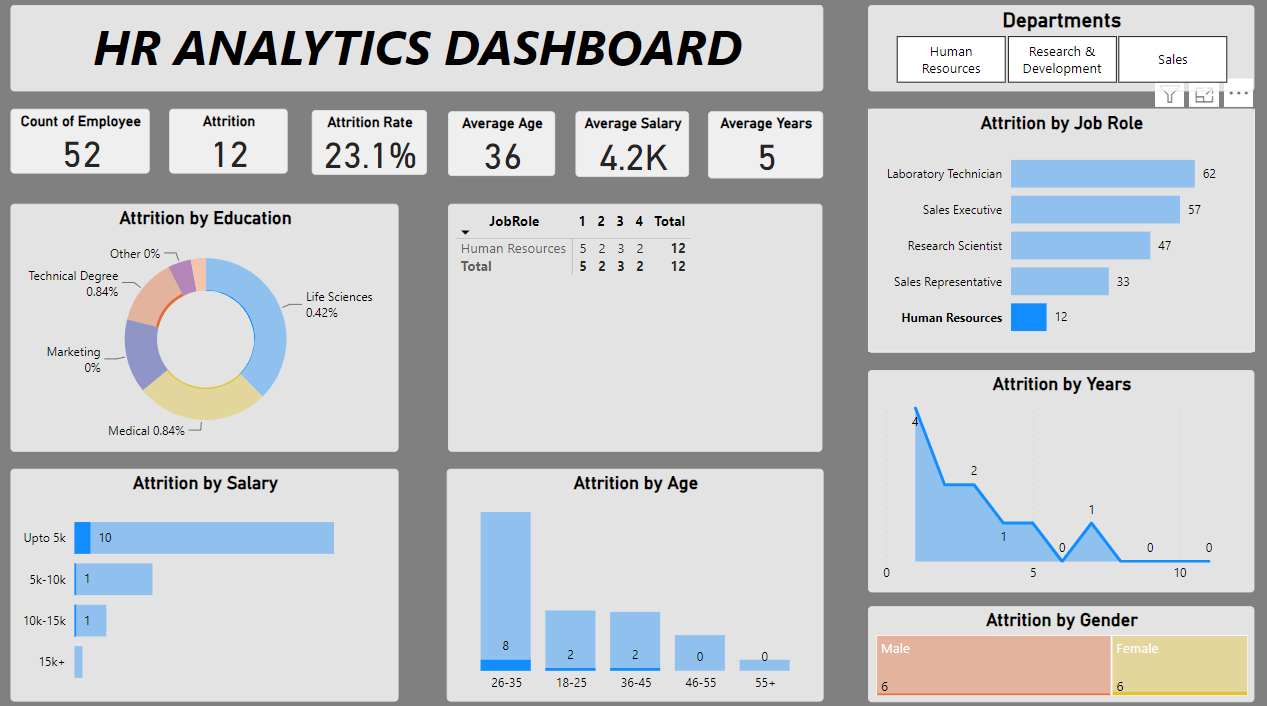

The dashboard page shown, as its layout file describes it:
{"tool":"powerbi","page":{"name":"Page 1","canvas":[1280,720],"ordinal":0},"visuals":[{"type":"card","title":"Count of Employee","fields":{"Values":["CountNonNull(HR_Analytics.EmpID)"]},"box":[17,113.8,139.4,64.9],"z":0},{"type":"card","title":"Attrition","fields":{"Values":["Sum(HR_Analytics.AttritionCount)"]},"box":[176.6,113.8,118.1,64.9],"z":1000},{"type":"card","title":"Attrition Rate","fields":{"Values":["HR_Analytics.AttritionRate"]},"box":[319.1,114.9,114.9,64.9],"z":2000},{"type":"card","title":"Average Age ","fields":{"Values":["Avg(HR_Analytics.Age)"]},"box":[455.3,116,107.4,64.9],"z":3000},{"type":"card","title":"Average Salary","fields":{"Values":["Avg(HR_Analytics.MonthlyIncome)"]},"box":[583,116,113.8,66],"z":4000},{"type":"card","title":"Average Years ","fields":{"Values":["Avg(HR_Analytics.YearsAtCompany)"]},"box":[714.9,116,114.9,67],"z":5000},{"type":"donutChart","title":"Attrition by Education","fields":{"Category":["HR_Analytics.EducationField"],"Y":["Sum(HR_Analytics.AttritionCount)"]},"box":[17,208.5,388.3,247.9],"z":6000},{"type":"columnChart","title":"Attrition by Age","fields":{"Category":["HR_Analytics.AgeGroup"],"Y":["Sum(HR_Analytics.AttritionCount)"]},"box":[453.2,473.4,376.6,233],"z":7000},{"type":"pivotTable","fields":{"Rows":["HR_Analytics.JobRole"],"Columns":["HR_Analytics.JobSatisfaction"],"Values":["Sum(HR_Analytics.AttritionCount)"]},"box":[455.3,208.5,374.5,247.9],"z":8000},{"type":"barChart","title":"Attrition by Salary","fields":{"Category":["HR_Analytics.SalarySlab"],"Y":["Sum(HR_Analytics.AttritionCount)"]},"box":[17,473.4,388.3,233],"z":9000},{"type":"barChart","title":"Attrition by Job Role","fields":{"Category":["HR_Analytics.JobRole"],"Y":["Sum(HR_Analytics.AttritionCount)"]},"box":[875.5,113.8,386.2,243.6],"z":10000},{"type":"areaChart","title":"Attrition by Years","fields":{"Category":["HR_Analytics.YearsAtCompany"],"Y":["Sum(HR_Analytics.AttritionCount)"]},"box":[875,375,386.2,222.5],"z":11000},{"type":"treemap","title":"Attrition by Gender","fields":{"Group":["HR_Analytics.Gender"],"Values":["Sum(HR_Analytics.AttritionCount)"]},"box":[875.5,610.6,386.2,95.7],"z":12000},{"type":"slicer","title":"Departments","fields":{"Values":["HR_Analytics.Department"]},"box":[875.5,9.6,386.2,86.2],"z":13000},{"type":"textbox","box":[17,9.6,812.8,86.2],"z":14000}]}

Visuals, with their boxes in screenshot pixels (x1, y1, x2, y2), scaled from the page's 1280x720 canvas onto the 1267x706 screenshot:
"Count of Employee" card: {"x1": 17, "y1": 112, "x2": 155, "y2": 175}
"Attrition" card: {"x1": 175, "y1": 112, "x2": 292, "y2": 175}
"Attrition Rate" card: {"x1": 316, "y1": 113, "x2": 430, "y2": 176}
"Average Age " card: {"x1": 451, "y1": 114, "x2": 557, "y2": 177}
"Average Salary" card: {"x1": 577, "y1": 114, "x2": 690, "y2": 178}
"Average Years " card: {"x1": 708, "y1": 114, "x2": 821, "y2": 179}
"Attrition by Education" donutChart: {"x1": 17, "y1": 204, "x2": 401, "y2": 448}
"Attrition by Age" columnChart: {"x1": 449, "y1": 464, "x2": 821, "y2": 693}
pivotTable - HR_Analytics.JobRole x HR_Analytics.JobSatisfaction: {"x1": 451, "y1": 204, "x2": 821, "y2": 448}
"Attrition by Salary" barChart: {"x1": 17, "y1": 464, "x2": 401, "y2": 693}
"Attrition by Job Role" barChart: {"x1": 867, "y1": 112, "x2": 1249, "y2": 350}
"Attrition by Years" areaChart: {"x1": 866, "y1": 368, "x2": 1248, "y2": 586}
"Attrition by Gender" treemap: {"x1": 867, "y1": 599, "x2": 1249, "y2": 693}
"Departments" slicer: {"x1": 867, "y1": 9, "x2": 1249, "y2": 94}
textbox: {"x1": 17, "y1": 9, "x2": 821, "y2": 94}
